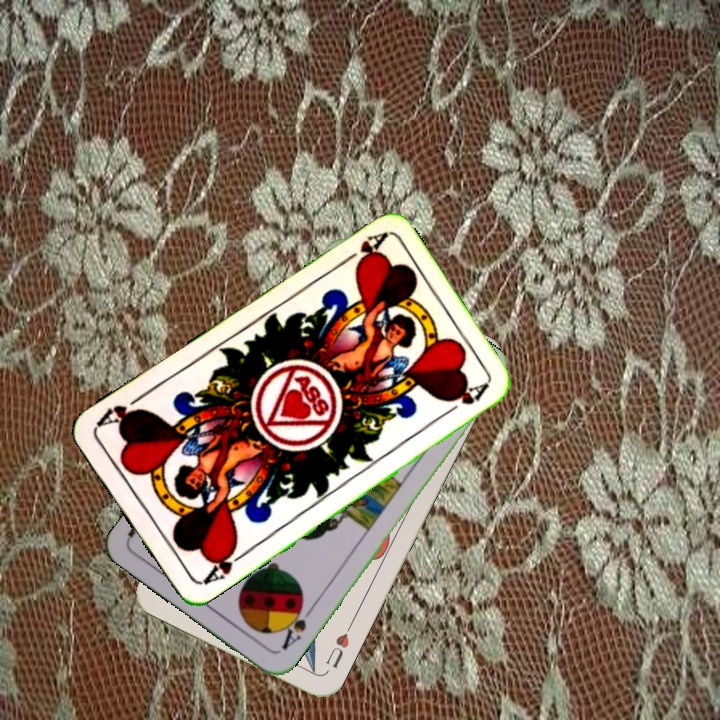HA: (198, 541, 250, 588), (335, 228, 389, 271)
HU: (321, 619, 355, 671)
SA: (277, 597, 316, 653)
